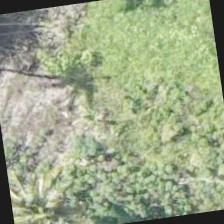Kelapa_Sawit: (6, 153, 94, 223)
